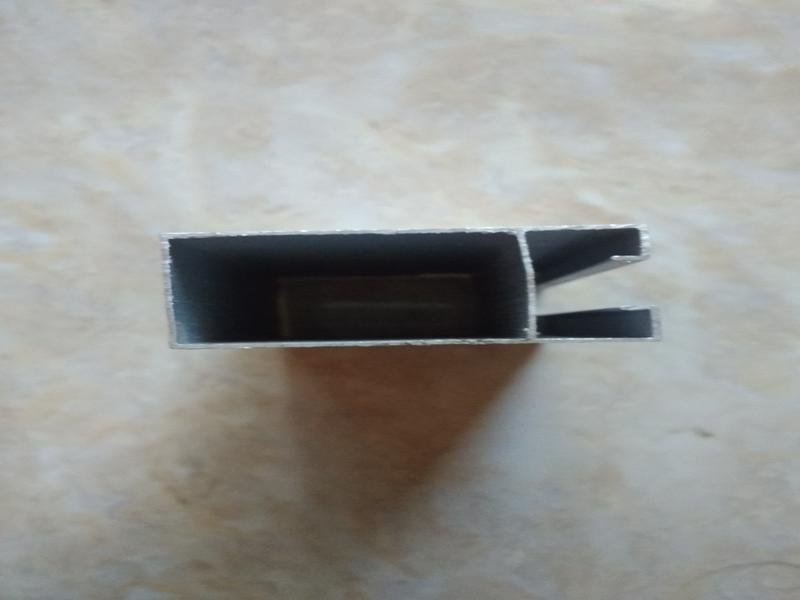Aluminium_1: (130, 199, 687, 366)
